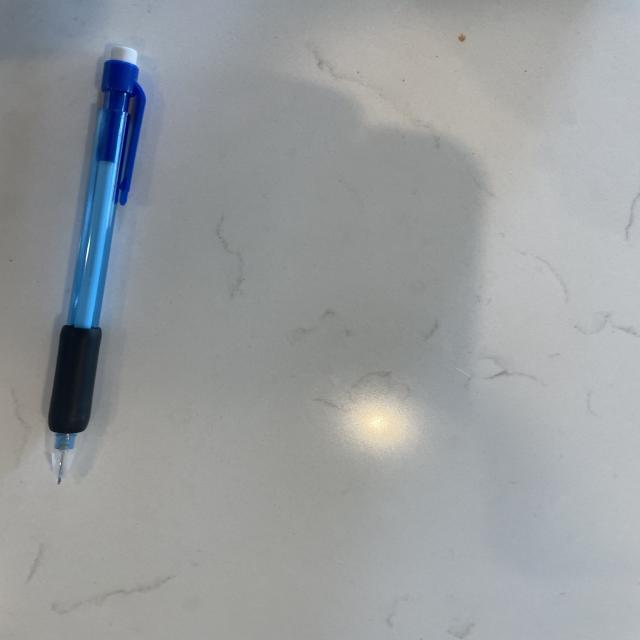mechanical-pencils: (48, 55, 146, 481)
